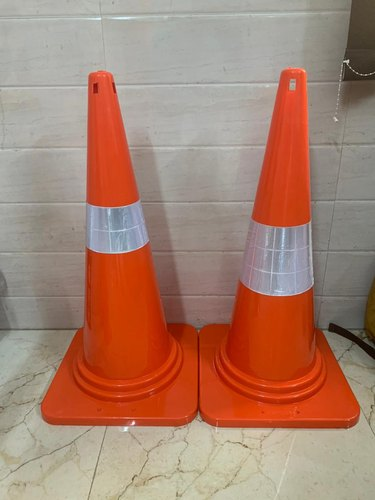cones: (198, 67, 365, 434), (34, 69, 199, 434)
